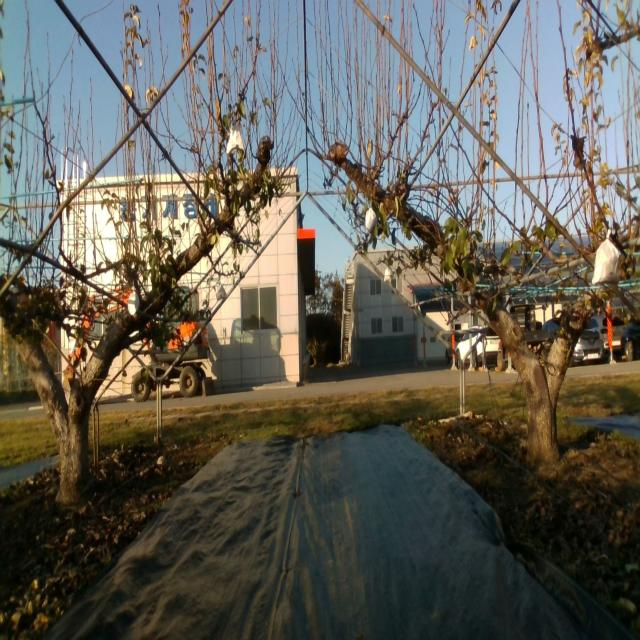pearbags: (592, 229, 620, 284), (226, 125, 244, 154), (128, 286, 140, 317), (365, 208, 378, 235), (215, 279, 226, 300)
